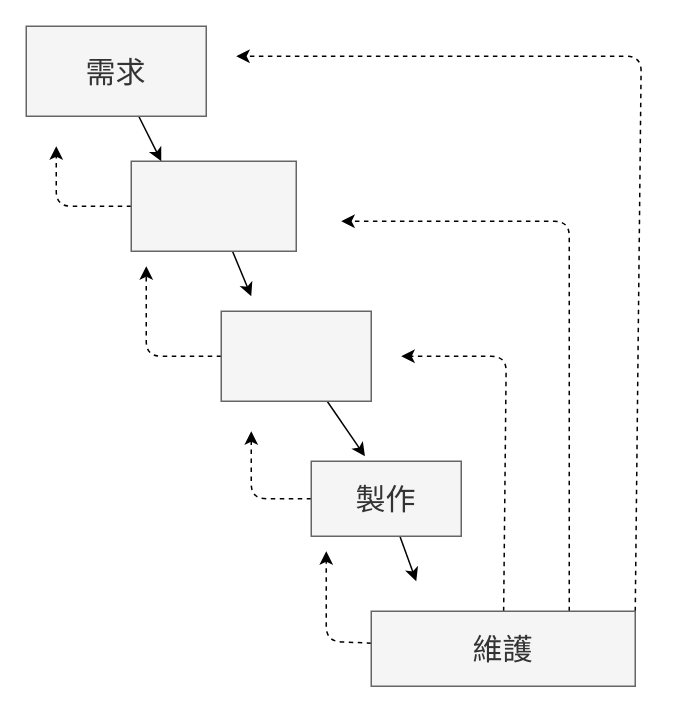
This 680x713 diagram has some shape labels left out. Here are the shapes that lost their labels. From the top down, the box of each, then its label:
(130, 160, 296, 251): 分析
(220, 310, 371, 401): 設計
